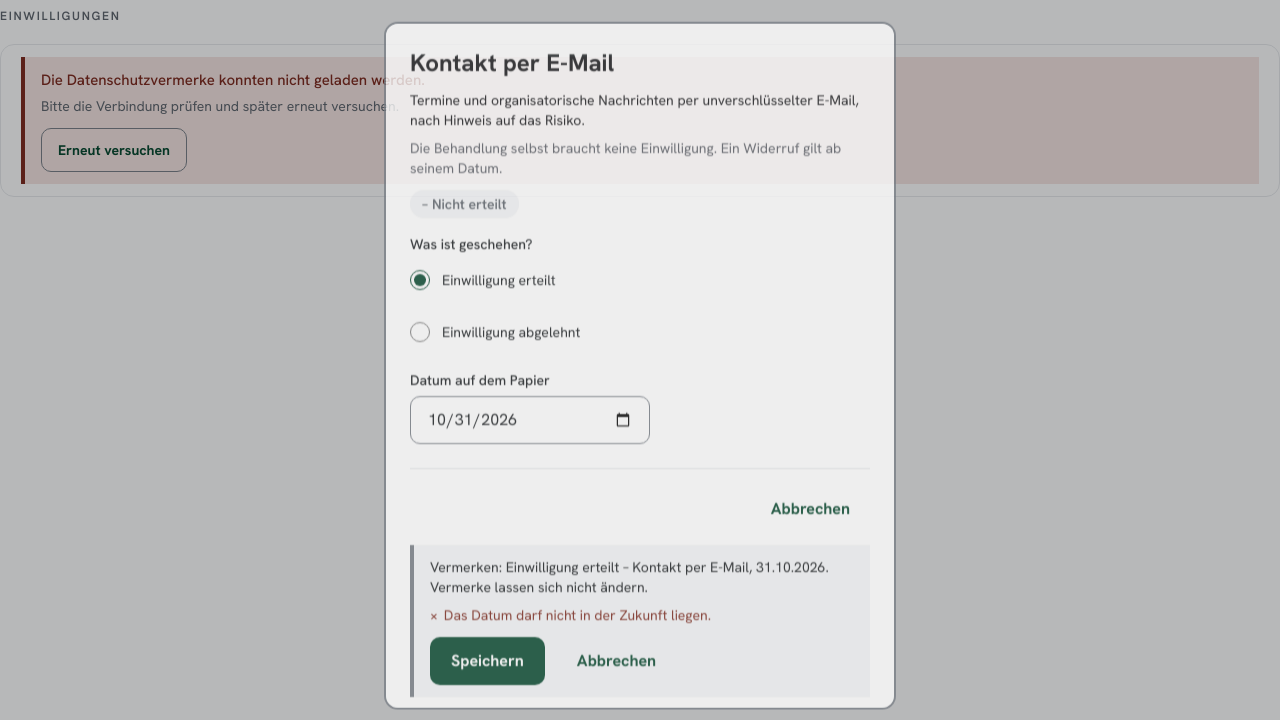
it: Datenschutz der Akte › bietet nach einem Ladefehler einen neuen Versuch an
Check: the 1st message shows "Die Datenschutzvermerke konnten nicht geladen werden.", box [41,70,425,90]
Check: the 1st message shows "Bitte die Verbindung prüfen", box [41,96,399,114]
Click the button "Erneut versuchen" at {"x": 114, "y": 150}, box [41,128,187,172]
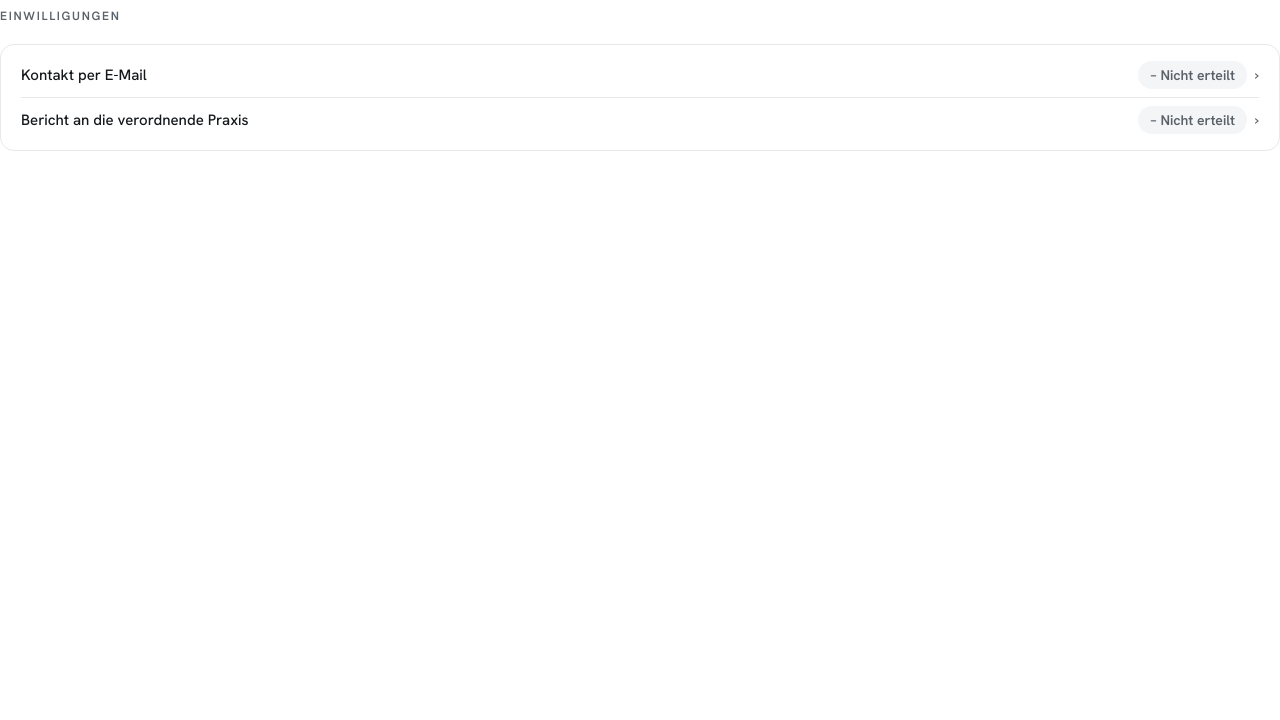
Check: the text "Nicht erteilt" is shown 2 times, box [1138,61,1247,89]; [1138,106,1247,134]
